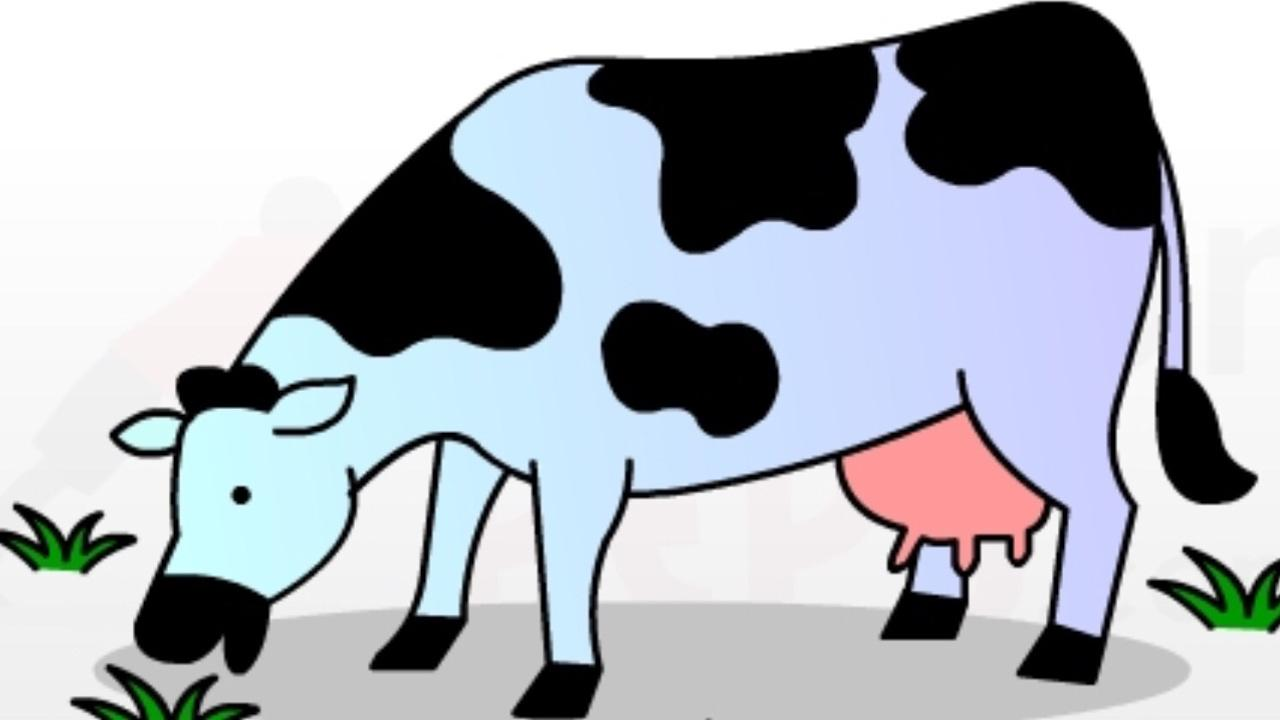cow: (130, 0, 1163, 719)
